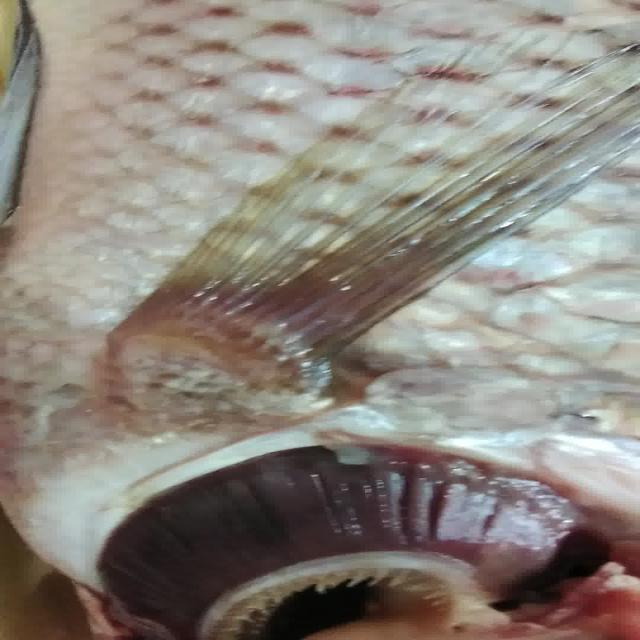Non-Fresh: (109, 443, 580, 634)
